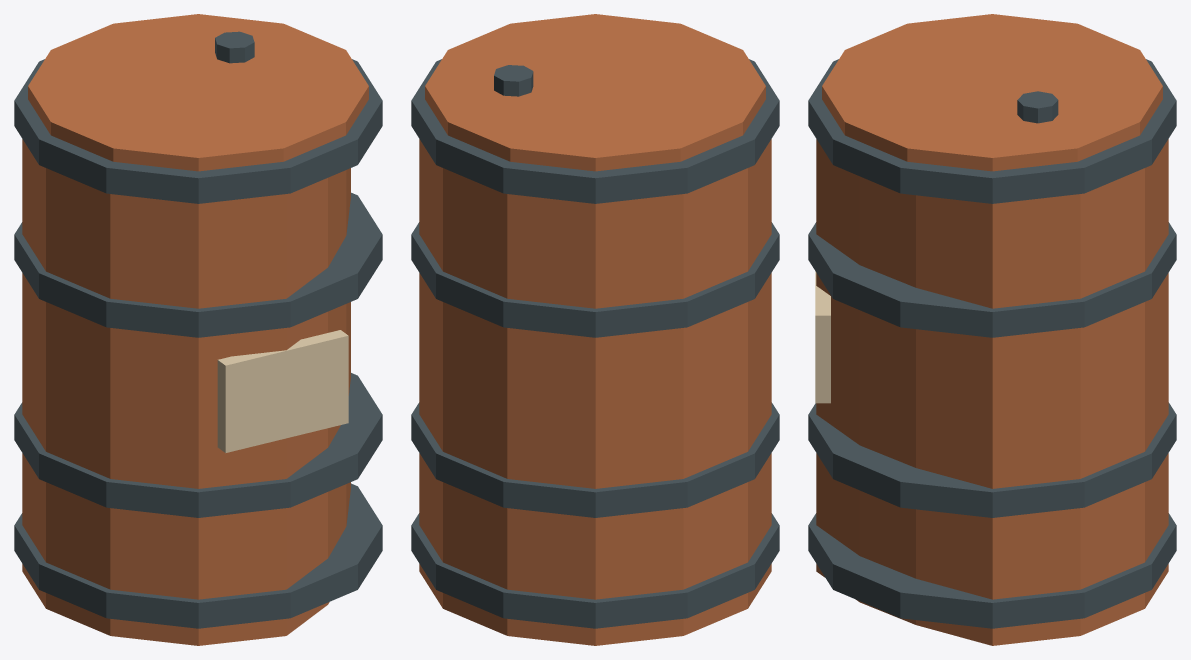
File: SM_Drum.fbx
3 views of the same model, side by side, from view 1: azimuth 30°, elevation 25°; view 2: azimuth 150°, elevation 25°; view 3: azimuth 270°, elevation 25° (orthographic).
Visible parts, largest first — view 1: SM_Drum; view 2: SM_Drum; view 3: SM_Drum.
Part boxes in pixels (bbox=[...]): SM_Drum: bbox=[14, 14, 382, 645]; SM_Drum: bbox=[411, 14, 779, 645]; SM_Drum: bbox=[808, 14, 1176, 645].
Size of the model in its own units: 0.648 by 0.648 by 0.972.
